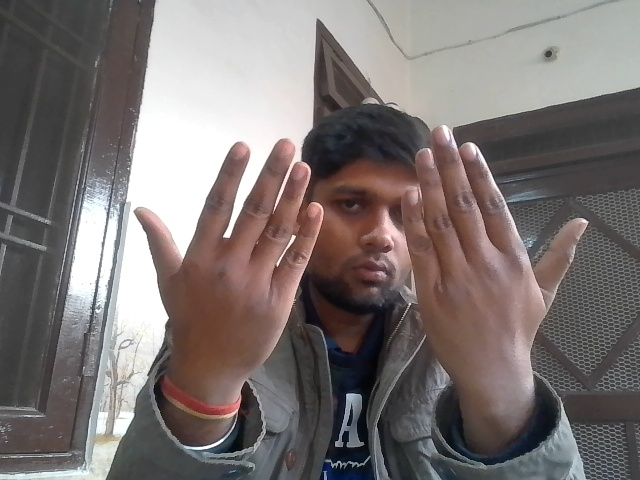ThankYou: (129, 116, 607, 387)
